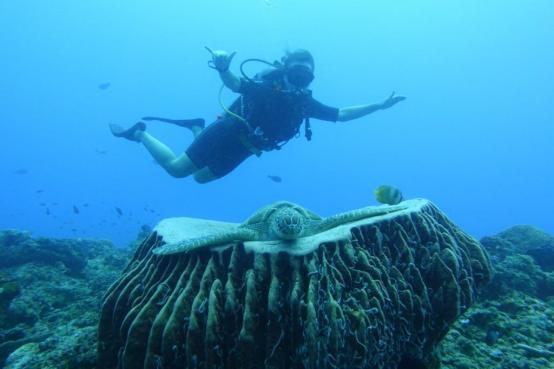fish: (370, 177, 405, 208)
trutle: (152, 200, 410, 252)
